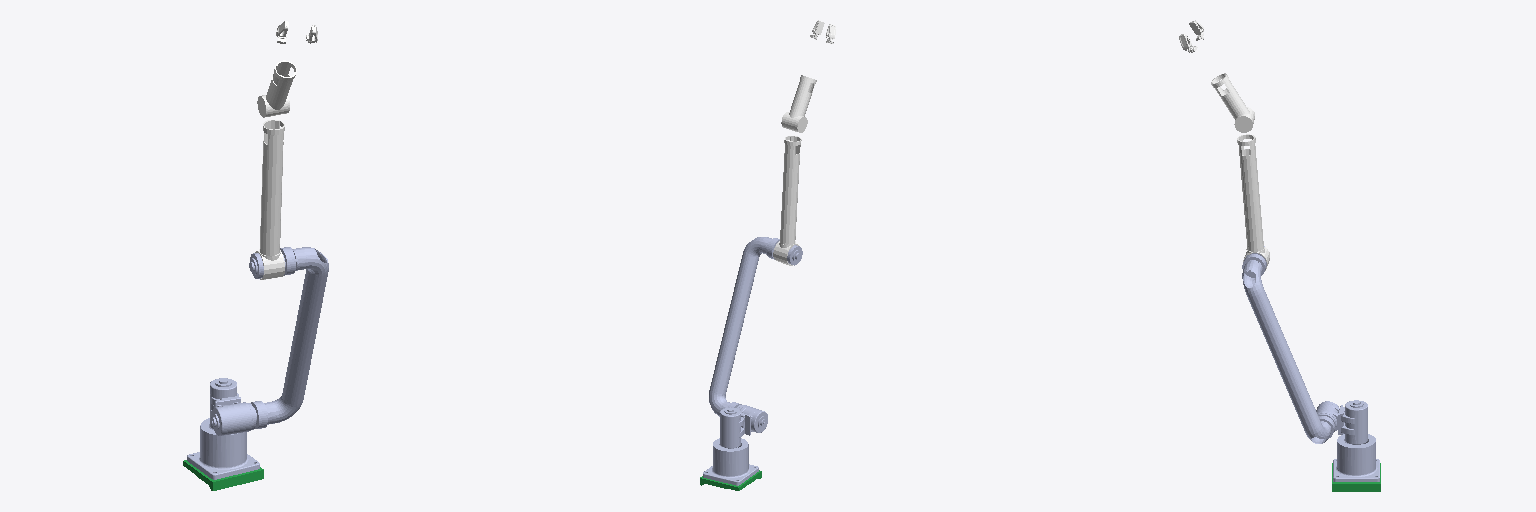
URDF robot description (uydu__starlink_sldasm9):
<?xml version='1.0' encoding='utf-8'?>
<robot name="uydu__starlink_sldasm9">
  <link name="base_link">
    <visual>
      <geometry>
        <mesh filename="../satellites/uydu/satellite.stl" />
      </geometry>
      <material name="satellite_grey">
        <color rgba=".6 .7 .8 1" />
      </material>
    </visual>
    <collision>
      <geometry>
        <mesh filename="../satellites/uydu/satellite.stl" />
      </geometry>
    </collision>
  </link>
  <link name="uydu_mount" />
  <joint name="satellite_mount_fixed" type="fixed">
    <parent link="base_link" />
    <child link="uydu_mount" />
    <origin xyz="0.15 0.15 0.4046098543457654" rpy="0.0 0.0 0.0" />
  </joint>
  <link name="mount_support">
    <visual>
      <geometry>
        <mesh filename="../satellites/uydu/mount_support.stl" />
      </geometry>
      <material name="mount_green">
        <color rgba=".2 .7 .35 1" />
      </material>
    </visual>
    <collision>
      <geometry>
        <mesh filename="../satellites/uydu/mount_support.stl" />
      </geometry>
    </collision>
  </link>
  <joint name="support_fixed" type="fixed">
    <parent link="uydu_mount" />
    <child link="mount_support" />
    <origin xyz="0 0 0" rpy="0 0 0" />
  </joint>
  <joint name="arm_adapter_fixed" type="fixed">
    <parent link="uydu_mount" />
    <child link="starlink_space_manipulator_base_link" />
    <origin xyz="0.009087204933166504 0.008519247174263 0.15000000141561035" rpy="-1.5707963267948966 0 0" />
  </joint>
  <link name="starlink_space_manipulator_base_link">
    <inertial>
      <origin xyz="-0.00908719924946466 0.0225428225681148 -0.00851924929637313" rpy="0 0 0" />
      <mass value="8.66024015898073" />
      <inertia ixx="0.0960303512697639" ixy="1.65511904636803E-18" ixz="6.22039820639877E-19" iyy="0.103454922260914" iyz="-9.68471289978311E-19" izz="0.0960303512697639" />
    </inertial>
    <visual>
      <origin xyz="0 0 0" rpy="0 0 0" />
      <geometry>
        <mesh filename="../arms/starlink_sldasm9/meshes/starlink_space_manipulator_base_link.STL" />
      </geometry>
      <material name="">
        <color rgba="0.792156862745098 0.819607843137255 0.933333333333333 1" />
      </material>
    </visual>
    <collision>
      <origin xyz="0 0 0" rpy="0 0 0" />
      <geometry>
        <mesh filename="../arms/starlink_sldasm9/meshes/starlink_space_manipulator_base_link.STL" />
      </geometry>
    </collision>
  </link>
  <link name="starlink_space_manipulator_Shoulder_link_1">
    <inertial>
      <origin xyz="-0.000399471745595769 -0.100006574194712 -0.17423940484461" rpy="0 0 0" />
      <mass value="5.16309216784981" />
      <inertia ixx="0.0524543852135592" ixy="0.00348154867667969" ixz="6.96526910910627E-05" iyy="0.0306595326318824" iyz="-0.00056674368052247" izz="0.0439979075615329" />
    </inertial>
    <visual>
      <origin xyz="0 0 0" rpy="0 0 0" />
      <geometry>
        <mesh filename="../arms/starlink_sldasm9/meshes/starlink_space_manipulator_Shoulder_link_1.STL" />
      </geometry>
      <material name="">
        <color rgba="0.792156862745098 0.819607843137255 0.933333333333333 1" />
      </material>
    </visual>
    <collision>
      <origin xyz="0 0 0" rpy="0 0 0" />
      <geometry>
        <mesh filename="../arms/starlink_sldasm9/meshes/starlink_space_manipulator_Shoulder_link_1.STL" />
      </geometry>
    </collision>
  </link>
  <joint name="starlink_space_manipulator_Shoulder_link_1_yaw" type="revolute">
    <origin xyz="-0.0090872 -0.065 -0.0085192" rpy="1.5708 -0.15574 3.1416" />
    <parent link="starlink_space_manipulator_base_link" />
    <child link="starlink_space_manipulator_Shoulder_link_1" />
    <axis xyz="0 0 -1" />
    <limit lower="-3.14" upper="3.14" effort="0" velocity="0" />
  </joint>
  <link name="starlink_space_manipulator_Upper_arm_Link_1">
    <inertial>
      <origin xyz="0.402106341472203 -0.696465272634528 -0.170177523085579" rpy="0 0 0" />
      <mass value="5.05309869040685" />
      <inertia ixx="0.388719013133801" ixy="0.210155896498943" ixz="9.30829370680679E-08" iyy="0.146049057575642" iyz="1.71830458004218E-07" izz="0.500677708275447" />
    </inertial>
    <visual>
      <origin xyz="0 0 0" rpy="0 0 0" />
      <geometry>
        <mesh filename="../arms/starlink_sldasm9/meshes/starlink_space_manipulator_Upper_arm_Link_1.STL" />
      </geometry>
      <material name="">
        <color rgba="0.792156862745098 0.819607843137255 0.933333333333333 1" />
      </material>
    </visual>
    <collision>
      <origin xyz="0 0 0" rpy="0 0 0" />
      <geometry>
        <mesh filename="../arms/starlink_sldasm9/meshes/starlink_space_manipulator_Upper_arm_Link_1.STL" />
      </geometry>
    </collision>
  </link>
  <joint name="starlink_space_manipulator_Upper_arm_Link_1_roll" type="revolute">
    <origin xyz="0 -0.2 -0.18" rpy="1.5708 0.90646 1.5708" />
    <parent link="starlink_space_manipulator_Shoulder_link_1" />
    <child link="starlink_space_manipulator_Upper_arm_Link_1" />
    <axis xyz="0 0 -1" />
    <limit lower="-2" upper="1.5" effort="0" velocity="0" />
  </joint>
  <link name="starlink_space_manipulator_Mid_arm_Link_1">
    <inertial>
      <origin xyz="-0.000406052776441013 0.317722269561105 0.0155331755135703" rpy="0 0 0" />
      <mass value="1.57635531881168" />
      <inertia ixx="0.133610363618846" ixy="5.33750993405138E-05" ixz="-3.60473795202962E-09" iyy="0.00502119434334708" iyz="-2.514275749911E-05" izz="0.134586018527477" />
    </inertial>
    <visual>
      <origin xyz="0 0 0" rpy="0 0 0" />
      <geometry>
        <mesh filename="../arms/starlink_sldasm9/meshes/starlink_space_manipulator_Mid_arm_Link_1.STL" />
      </geometry>
      <material name="">
        <color rgba="1 1 1 1" />
      </material>
    </visual>
    <collision>
      <origin xyz="0 0 0" rpy="0 0 0" />
      <geometry>
        <mesh filename="../arms/starlink_sldasm9/meshes/starlink_space_manipulator_Mid_arm_Link_1.STL" />
      </geometry>
    </collision>
  </link>
  <joint name="starlink_space_manipulator_Mid_arm_Link_1_roll" type="revolute">
    <origin xyz="0.599999999999673 -1.03923048454122 0" rpy="-3.14159265358979 0 0.828250280535091" />
    <parent link="starlink_space_manipulator_Upper_arm_Link_1" />
    <child link="starlink_space_manipulator_Mid_arm_Link_1" />
    <axis xyz="0 0 -1" />
    <limit lower="-3.14" upper="3.14" effort="0" velocity="0" />
  </joint>
  <link name="starlink_space_manipulator_Upper_wrist_Link_1">
    <inertial>
      <origin xyz="-0.000400003664721815 -0.201565878030355 -0.00216705855311664" rpy="0 0 0" />
      <mass value="0.994770641034713" />
      <inertia ixx="0.00165409639029414" ixy="-7.59103925411082E-06" ixz="-3.17403155320863E-06" iyy="0.00201437937768072" iyz="2.63246464091218E-06" izz="0.00159638838344539" />
    </inertial>
    <visual>
      <origin xyz="0 0 0" rpy="0 0 0" />
      <geometry>
        <mesh filename="../arms/starlink_sldasm9/meshes/starlink_space_manipulator_Upper_wrist_Link_1.STL" />
      </geometry>
      <material name="">
        <color rgba="0.792156862745098 0.819607843137255 0.933333333333333 1" />
      </material>
    </visual>
    <collision>
      <origin xyz="0 0 0" rpy="0 0 0" />
      <geometry>
        <mesh filename="../arms/starlink_sldasm9/meshes/starlink_space_manipulator_Upper_wrist_Link_1.STL" />
      </geometry>
    </collision>
  </link>
  <joint name="starlink_space_manipulator_Upper_wrist_Link_1_yaw" type="revolute">
    <origin xyz="-0.00050155183276912 0.686793643713439 0.0155010481432086" rpy="0 -0.0763876794035917 3.14159265358979" />
    <parent link="starlink_space_manipulator_Mid_arm_Link_1" />
    <child link="starlink_space_manipulator_Upper_wrist_Link_1" />
    <axis xyz="0 -1 0" />
    <limit lower="-3.14" upper="3.14" effort="0" velocity="0" />
  </joint>
  <link name="starlink_space_manipulator_Upper_wrist_Link_2">
    <inertial>
      <origin xyz="8.45304168883843E-08 0.0848318719623631 -0.00515657391755576" rpy="0 0 0" />
      <mass value="1.03716823037577" />
      <inertia ixx="0.0100970561498589" ixy="1.32295633551837E-09" ixz="-9.43675929999229E-09" iyy="0.00222325407426665" iyz="-2.08772874866187E-06" izz="0.0105840577017538" />
    </inertial>
    <visual>
      <origin xyz="0 0 0" rpy="0 0 0" />
      <geometry>
        <mesh filename="../arms/starlink_sldasm9/meshes/starlink_space_manipulator_Upper_wrist_Link_2.STL" />
      </geometry>
      <material name="">
        <color rgba="1 1 1 1" />
      </material>
    </visual>
    <collision>
      <origin xyz="0 0 0" rpy="0 0 0" />
      <geometry>
        <mesh filename="../arms/starlink_sldasm9/meshes/starlink_space_manipulator_Upper_wrist_Link_2.STL" />
      </geometry>
    </collision>
  </link>
  <joint name="starlink_space_manipulator_Upper_wrist_Link_2_roll" type="revolute">
    <origin xyz="0 -0.30020635628656 0" rpy="-0.0158640776811277 -0.0317448426184613 -2.67805461574742" />
    <parent link="starlink_space_manipulator_Upper_wrist_Link_1" />
    <child link="starlink_space_manipulator_Upper_wrist_Link_2" />
    <axis xyz="0 0 1" />
    <limit lower="-2.5" upper="1.8" effort="0" velocity="0" />
  </joint>
  <link name="starlink__space_manipulator_2F-Body_Link">
    <inertial>
      <origin xyz="0.000132893636818288 -0.122912145301831 0.000141178527731878" rpy="0 0 0" />
      <mass value="2.06098061435798" />
      <inertia ixx="0.00357820981002093" ixy="-9.7173781739015E-06" ixz="-0.000377950837415894" iyy="0.00540179107539635" iyz="3.57093943209629E-06" izz="0.0050632324449311" />
    </inertial>
    <visual>
      <origin xyz="0 0 0" rpy="0 0 0" />
      <geometry>
        <mesh filename="../arms/starlink_sldasm9/meshes/starlink__space_manipulator_2F-Body_Link.STL" />
      </geometry>
      <material name="">
        <color rgba="0.792156862745098 0.819607843137255 0.933333333333333 1" />
      </material>
    </visual>
    <collision>
      <origin xyz="0 0 0" rpy="0 0 0" />
      <geometry>
        <mesh filename="../arms/starlink_sldasm9/meshes/starlink__space_manipulator_2F-Body_Link.STL" />
      </geometry>
    </collision>
  </link>
  <joint name="starlink__space_manipulator_2F-Body_Link_yaw" type="revolute">
    <origin xyz="0 0.34845 -0.0053813" rpy="-3.1416 0.93592 0" />
    <parent link="starlink_space_manipulator_Upper_wrist_Link_2" />
    <child link="starlink__space_manipulator_2F-Body_Link" />
    <axis xyz="0 -1 0" />
    <limit lower="-3.14" upper="3.14" effort="0" velocity="0" />
  </joint>
  <link name="starlink_space_manipulator_Finger1_2_Link">
    <inertial>
      <origin xyz="-0.128379781160824 0.00213384929263816 0.20765530277947" rpy="0 0 0" />
      <mass value="0.164012557851557" />
      <inertia ixx="0.000137377814382494" ixy="5.75324125943043E-07" ixz="1.56204374379134E-05" iyy="0.000128174497717794" iyz="2.8915711708103E-06" izz="5.56877077151319E-05" />
    </inertial>
    <visual>
      <origin xyz="0 0 0" rpy="0 0 0" />
      <geometry>
        <mesh filename="../arms/starlink_sldasm9/meshes/starlink_space_manipulator_Finger1_2_Link.STL" />
      </geometry>
      <material name="">
        <color rgba="1 1 1 1" />
      </material>
    </visual>
    <collision>
      <origin xyz="0 0 0" rpy="0 0 0" />
      <geometry>
        <mesh filename="../arms/starlink_sldasm9/meshes/starlink_space_manipulator_Finger1_2_Link.STL" />
      </geometry>
    </collision>
  </link>
  <joint name="starlink_space_manipulator_Finger1_2_Link_roll" type="prismatic">
    <origin xyz="-0.2017 -0.10916 -0.04801" rpy="-1.5708 0.22747 -3.1416" />
    <parent link="starlink__space_manipulator_2F-Body_Link" />
    <child link="starlink_space_manipulator_Finger1_2_Link" />
    <axis xyz="-1 0 0" />
    <limit lower="0.0" upper="0.04" effort="20" velocity="0" />
  </joint>
  <link name="starlink_space_manipulator_Finger2_1_Link">
    <inertial>
      <origin xyz="-0.128379783275286 0.0021338497374519 0.207655316264438" rpy="0 0 0" />
      <mass value="0.164012525176243" />
      <inertia ixx="0.000137377758573247" ixy="5.75327227385201E-07" ixz="1.56204303396715E-05" iyy="0.00012817444752134" iyz="2.89153901545968E-06" izz="5.5687711839857E-05" />
    </inertial>
    <visual>
      <origin xyz="0 0 0" rpy="0 0 0" />
      <geometry>
        <mesh filename="../arms/starlink_sldasm9/meshes/starlink_space_manipulator_Finger2_1_Link.STL" />
      </geometry>
      <material name="">
        <color rgba="1 1 1 1" />
      </material>
    </visual>
    <collision>
      <origin xyz="0 0 0" rpy="0 0 0" />
      <geometry>
        <mesh filename="../arms/starlink_sldasm9/meshes/starlink_space_manipulator_Finger2_1_Link.STL" />
      </geometry>
    </collision>
  </link>
  <joint name="starlink_space_manipulator_Finger2_1_Link_roll" type="prismatic">
    <origin xyz="0.20865 -0.10916 0.049619" rpy="1.5708 -0.22747 0" />
    <parent link="starlink__space_manipulator_2F-Body_Link" />
    <child link="starlink_space_manipulator_Finger2_1_Link" />
    <axis xyz="-1 0 0" />
    <limit lower="0.0" upper="0.04" effort="20" velocity="0" />
  </joint>
</robot>

--- What the picture shows (computed from the rendered views, not written in the file) ---
3 views of the same robot in one strip: view 1: azimuth 30°, elevation 25°; view 2: azimuth 150°, elevation 25°; view 3: azimuth 270°, elevation 25° (orthographic).
Model uydu__starlink_sldasm9 with 12 links and 11 joints (6 revolute, 2 prismatic, 3 fixed), rooted at base_link, posed every joint at zero.
Visible links, largest first — view 1: starlink_space_manipulator_Upper_arm_Link_1, starlink_space_manipulator_Mid_arm_Link_1, starlink_space_manipulator_base_link, starlink_space_manipulator_Shoulder_link_1, starlink_space_manipulator_Upper_wrist_Link_2, mount_support; view 2: starlink_space_manipulator_Upper_arm_Link_1, starlink_space_manipulator_Mid_arm_Link_1, starlink_space_manipulator_base_link, starlink_space_manipulator_Shoulder_link_1, starlink_space_manipulator_Upper_wrist_Link_2; view 3: starlink_space_manipulator_Upper_arm_Link_1, starlink_space_manipulator_Mid_arm_Link_1, starlink_space_manipulator_base_link, starlink_space_manipulator_Shoulder_link_1, starlink_space_manipulator_Upper_wrist_Link_2, mount_support.
Link boxes in pixels (<box>): starlink_space_manipulator_Upper_arm_Link_1: <box>211,247,328,424</box>; starlink_space_manipulator_Mid_arm_Link_1: <box>255,120,284,279</box>; starlink_space_manipulator_base_link: <box>187,418,259,479</box>; starlink_space_manipulator_Shoulder_link_1: <box>210,378,267,435</box>; starlink_space_manipulator_Upper_wrist_Link_2: <box>257,60,296,117</box>; mount_support: <box>183,460,263,490</box>; starlink_space_manipulator_Upper_arm_Link_1: <box>709,237,802,423</box>; starlink_space_manipulator_Mid_arm_Link_1: <box>773,136,801,265</box>; starlink_space_manipulator_base_link: <box>703,438,758,485</box>; starlink_space_manipulator_Shoulder_link_1: <box>720,402,767,448</box>; starlink_space_manipulator_Upper_wrist_Link_2: <box>781,75,816,132</box>; starlink_space_manipulator_Upper_arm_Link_1: <box>1242,246,1331,443</box>; starlink_space_manipulator_Mid_arm_Link_1: <box>1237,134,1269,270</box>; starlink_space_manipulator_base_link: <box>1333,434,1379,481</box>; starlink_space_manipulator_Shoulder_link_1: <box>1316,400,1367,444</box>; starlink_space_manipulator_Upper_wrist_Link_2: <box>1211,73,1254,132</box>; mount_support: <box>1332,463,1380,491</box>.
Size in the robot's own frame: 0.5961 by 1.31 by 3.17 metres.
Meshes: 11 distinct files referenced, 8 mesh visuals loaded (8 binary STL); not drawn: 3 (reference not matched to a file when rendering).
